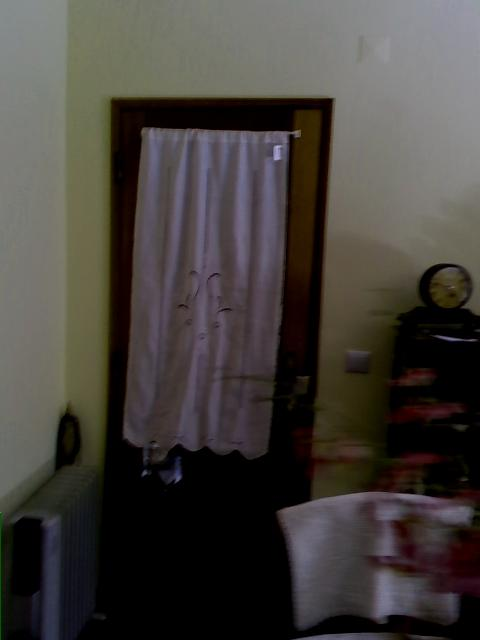closed_door: (98, 97, 333, 639)
